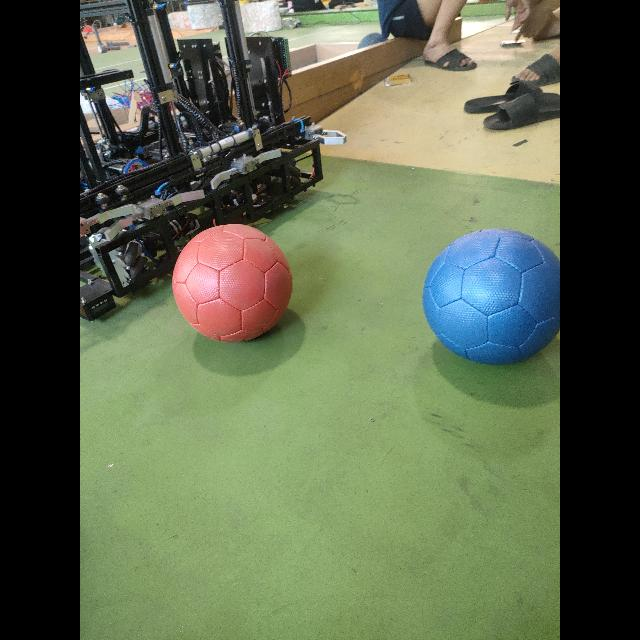B: (422, 229, 560, 364)
R: (172, 224, 291, 342)
